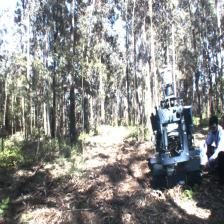trunktrack_idkeyframe: (70, 95, 76, 140)
